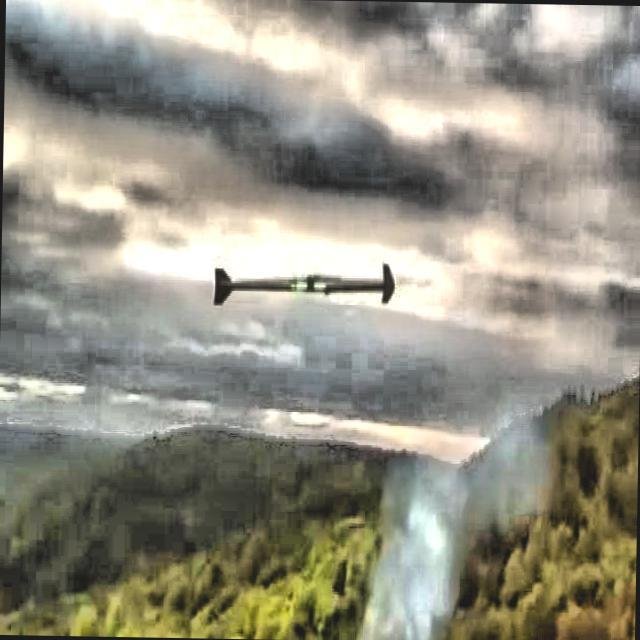iha: (187, 271, 405, 303)
